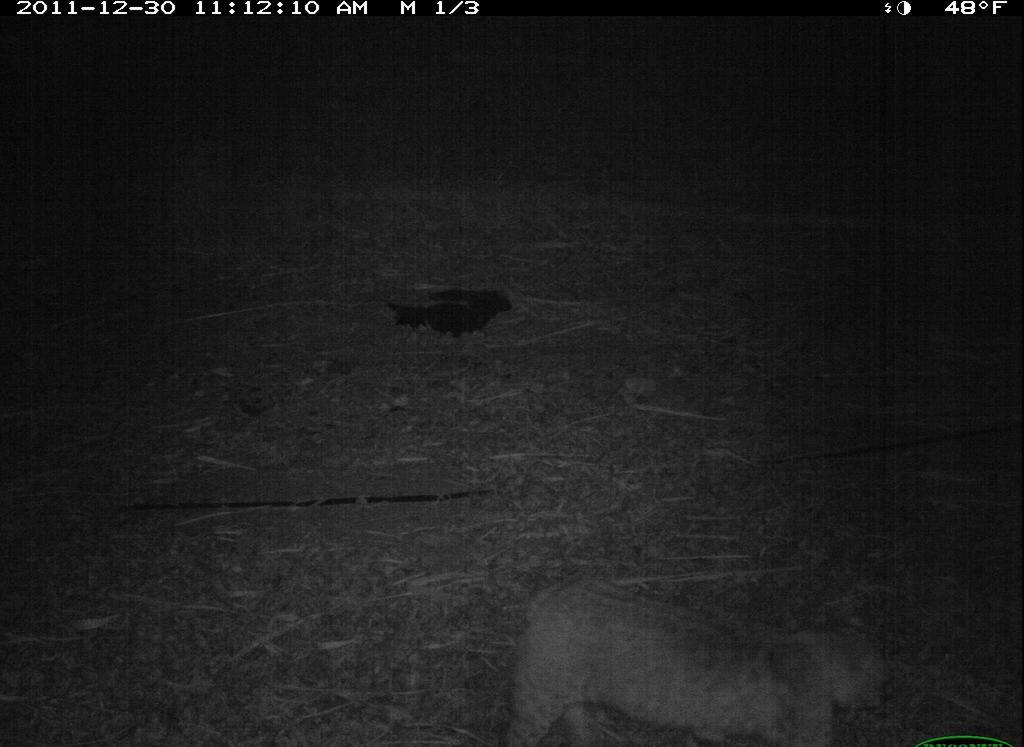bobcat: (498, 575, 898, 747)
